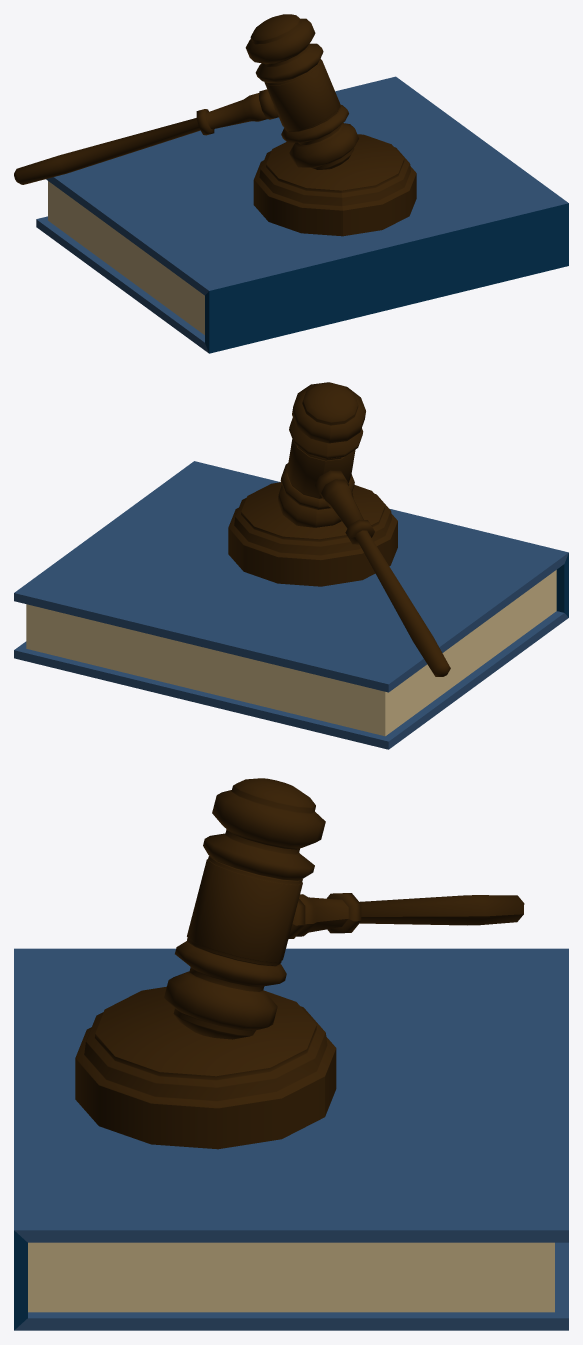
File: law_book.fbx
The picture shows the model from 3 angles, top to bottom: view 1: azimuth 30°, elevation 25°; view 2: azimuth 150°, elevation 25°; view 3: azimuth 270°, elevation 25°; orthographic projection. The views are drawn at different scales.
Parts seen in each view (by area): view 1: polySurface8, hammer:Hammer_piv, hammer:Hammer_st2; view 2: polySurface8, hammer:Hammer_piv, hammer:Hammer_st2; view 3: polySurface8, hammer:Hammer_piv, hammer:Hammer_st2.
Boxes of the visible parts, bbox=[...] form: polySurface8: bbox=[36, 76, 568, 353]; hammer:Hammer_piv: bbox=[14, 14, 358, 184]; hammer:Hammer_st2: bbox=[253, 134, 416, 236]; polySurface8: bbox=[14, 461, 568, 749]; hammer:Hammer_piv: bbox=[277, 382, 450, 676]; hammer:Hammer_st2: bbox=[228, 482, 397, 586]; polySurface8: bbox=[14, 948, 568, 1330]; hammer:Hammer_piv: bbox=[164, 778, 524, 1039]; hammer:Hammer_st2: bbox=[75, 986, 336, 1149].
Bounding box in the file's own units: 14.29 × 8.24 × 10.74.
